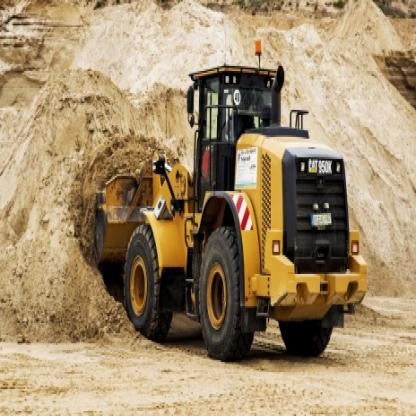bull_dozer/loader/grader: (75, 51, 374, 379)
